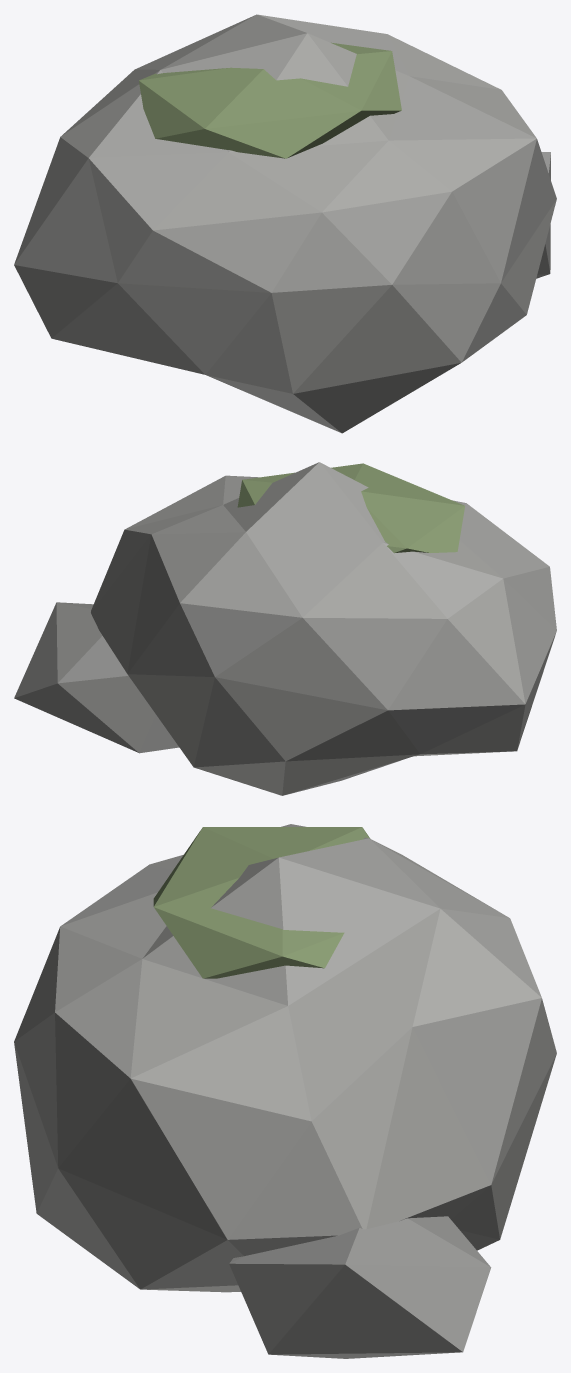
File: RockLarge.glb
The picture shows the model from 3 angles, top to bottom: view 1: azimuth 30°, elevation 25°; view 2: azimuth 150°, elevation 25°; view 3: azimuth 270°, elevation 25°; orthographic projection. The views are drawn at different scales.
Visible parts, largest first — view 1: RockLarge; view 2: RockLarge; view 3: RockLarge.
Boxes of the visible parts, bbox=[...] form: RockLarge: bbox=[14, 14, 556, 433]; RockLarge: bbox=[14, 462, 556, 795]; RockLarge: bbox=[14, 824, 556, 1358].
Bounding box in the file's own units: 9.07 × 5.73 × 6.62.
